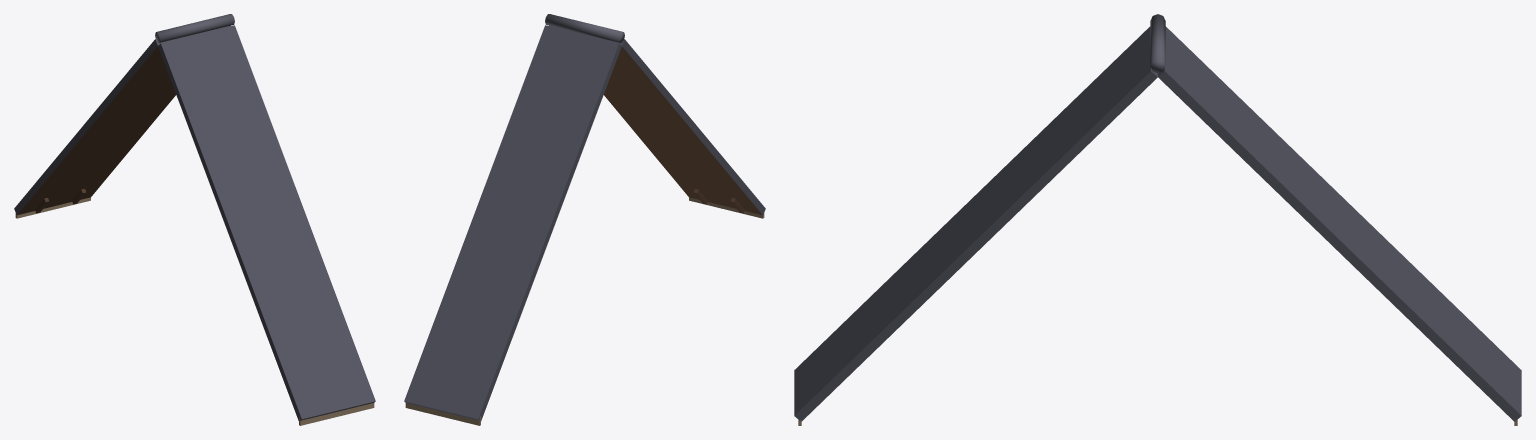
Rendered from kit_clapboard_slate_w6.glb.
The picture shows the model from 3 angles, left to right: view 1: azimuth 30°, elevation 25°; view 2: azimuth 150°, elevation 25°; view 3: azimuth 270°, elevation 25°; orthographic projection. The views are drawn at different scales.
Visible parts, largest first — view 1: kit_clapboard_slate_w6; view 2: kit_clapboard_slate_w6; view 3: kit_clapboard_slate_w6.
Part boxes in pixels (x1,y1,x2,y2): kit_clapboard_slate_w6: [14, 14, 375, 425]; kit_clapboard_slate_w6: [404, 14, 765, 425]; kit_clapboard_slate_w6: [794, 14, 1521, 425].
Bounding box in the file's own units: 1 × 3.74 × 6.73.
